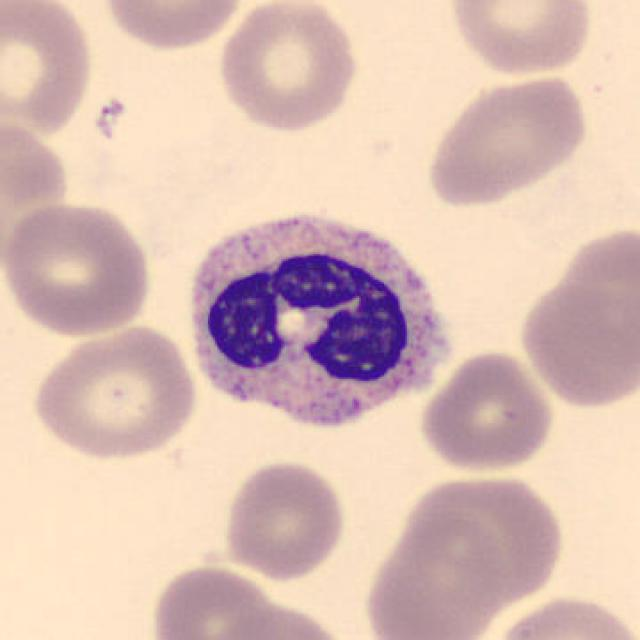Neutrophil: (180, 198, 458, 450)
RBC: (27, 321, 201, 462), (421, 69, 592, 208), (402, 469, 569, 610), (0, 198, 155, 338), (516, 238, 638, 413), (213, 0, 363, 134), (361, 506, 508, 638), (416, 348, 558, 474), (218, 456, 348, 582), (0, 0, 98, 139), (0, 111, 76, 276), (444, 0, 597, 79), (147, 560, 279, 640), (96, 0, 249, 53), (490, 590, 638, 640), (203, 601, 352, 640)
